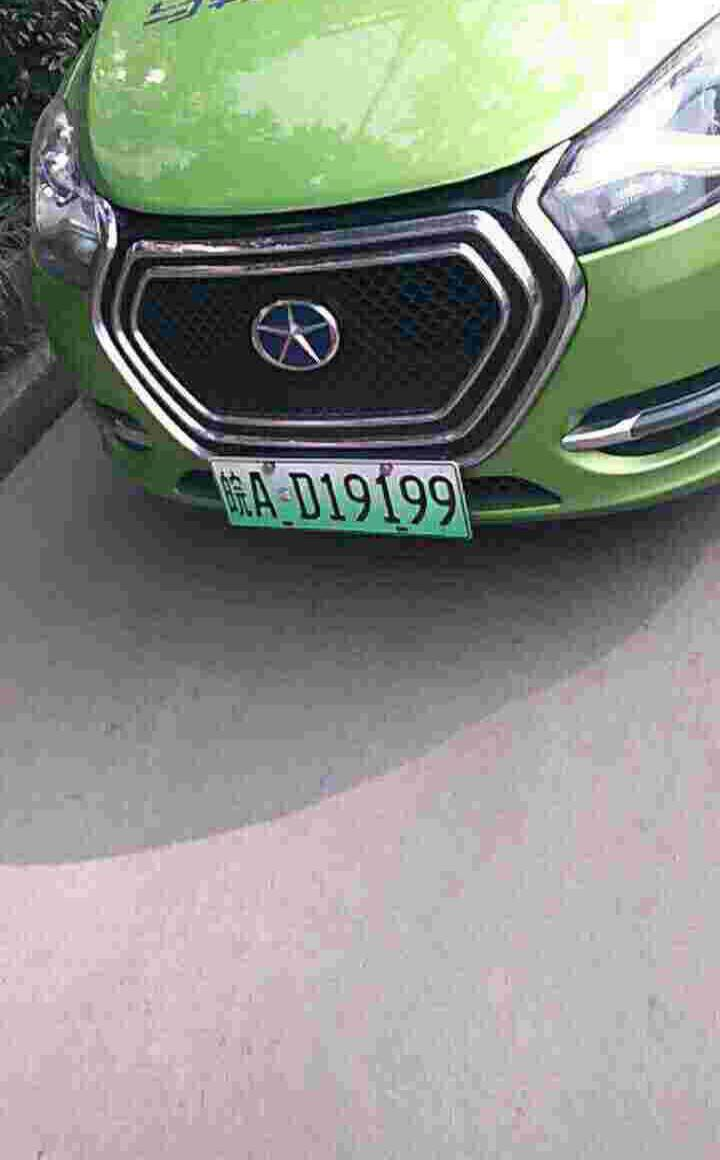car_green: (210, 457, 472, 543)
